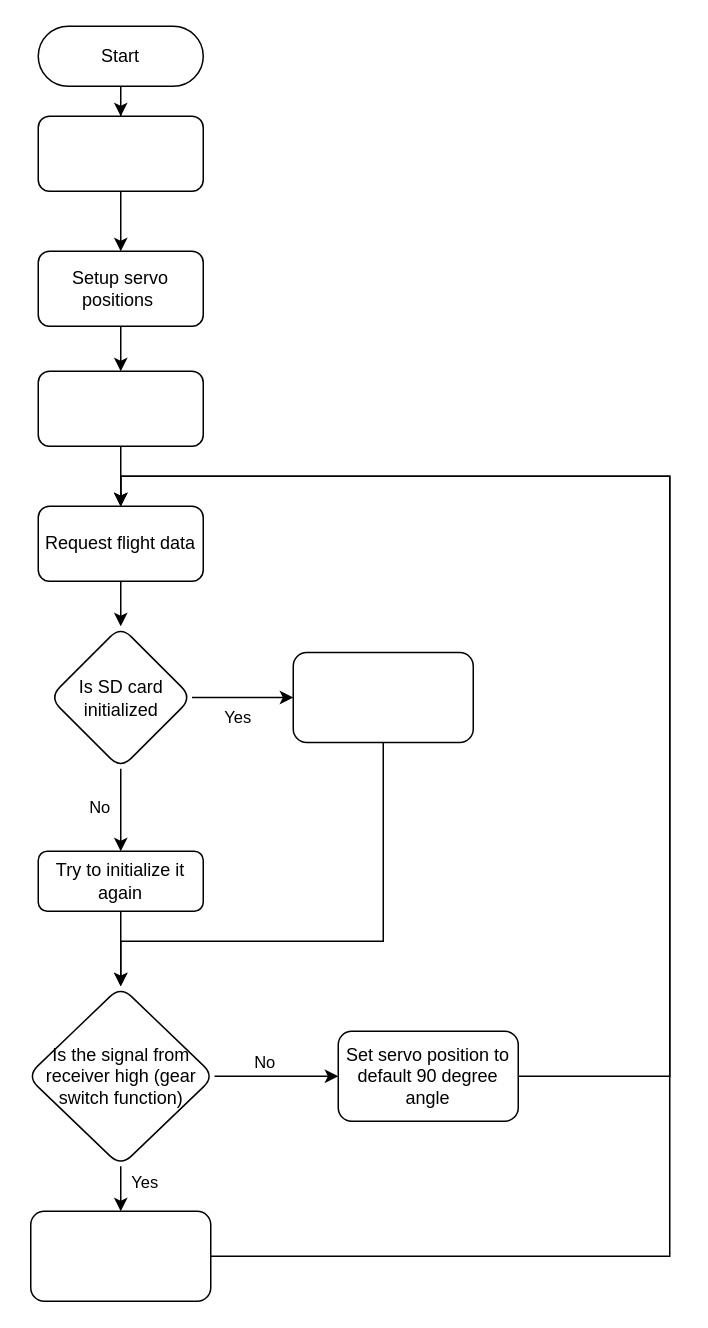
Image size: 708x1328. Some labels were removed from this diagram. The box of each missing label's shape, as (x1, y1, x2, y2) in pixels:
Set pin modes: (37, 115, 203, 191)
Set servo position to counteract the pitch and roll: (29, 1210, 211, 1301)
Try to initialize SD card: (37, 370, 203, 446)
Write flight data to SD card: (292, 651, 473, 742)
